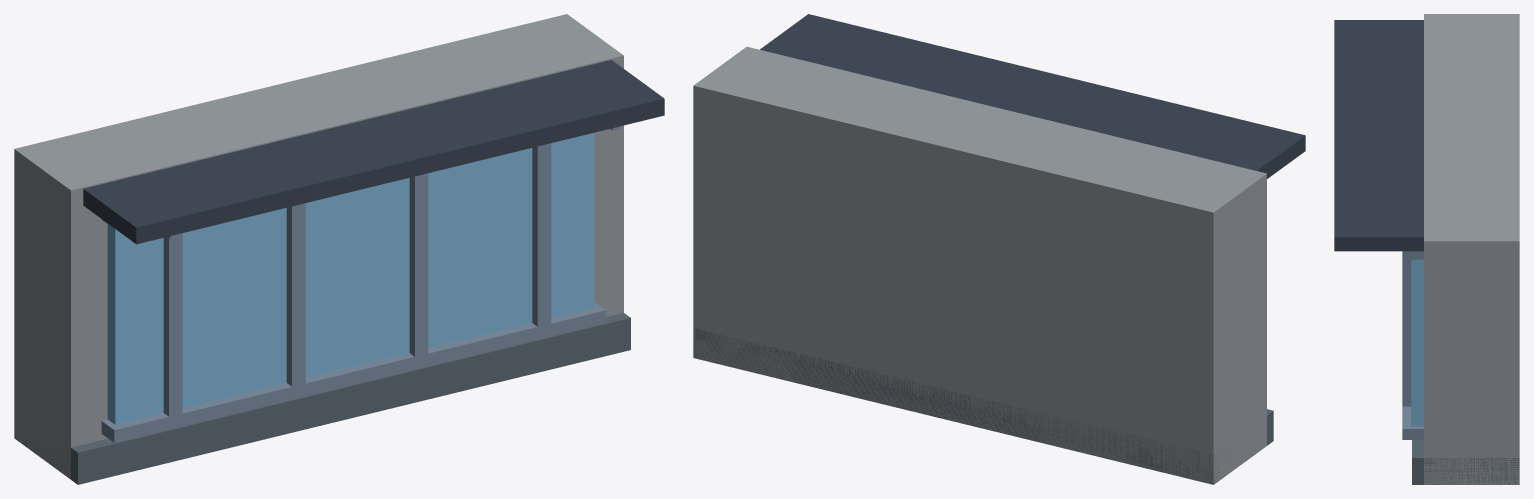
The model's file is cittaVetroBaseA.glb.
3 views of the same model, side by side, from view 1: azimuth 30°, elevation 25°; view 2: azimuth 150°, elevation 25°; view 3: azimuth 270°, elevation 25° (orthographic). The views are drawn at different scales.
Parts seen in each view (by area): view 1: cittaVetroBaseA_glass, cittaVetroBaseA_cittaVetro, cittaVetroBaseA_steelDark, cittaVetroBaseA_steel, cittaVetroBaseA_tarmac; view 2: cittaVetroBaseA_cittaVetro, cittaVetroBaseA_steelDark, cittaVetroBaseA_tarmac; view 3: cittaVetroBaseA_cittaVetro, cittaVetroBaseA_steelDark, cittaVetroBaseA_tarmac, cittaVetroBaseA_glass, cittaVetroBaseA_steel.
Part boxes in pixels (x1,y1,x2,y2): cittaVetroBaseA_glass: (107, 133, 594, 424); cittaVetroBaseA_cittaVetro: (14, 14, 623, 479); cittaVetroBaseA_steelDark: (83, 60, 664, 244); cittaVetroBaseA_steel: (101, 126, 620, 442); cittaVetroBaseA_tarmac: (14, 313, 630, 484); cittaVetroBaseA_cittaVetro: (693, 46, 1266, 484); cittaVetroBaseA_steelDark: (760, 14, 1305, 178); cittaVetroBaseA_tarmac: (693, 328, 1273, 484); cittaVetroBaseA_cittaVetro: (1424, 14, 1519, 484); cittaVetroBaseA_steelDark: (1334, 20, 1423, 251); cittaVetroBaseA_tarmac: (1412, 440, 1519, 484); cittaVetroBaseA_glass: (1411, 259, 1423, 426); cittaVetroBaseA_steel: (1402, 251, 1423, 439).
Bounding box in the file's own units: 9 × 4.5 × 3.1.
